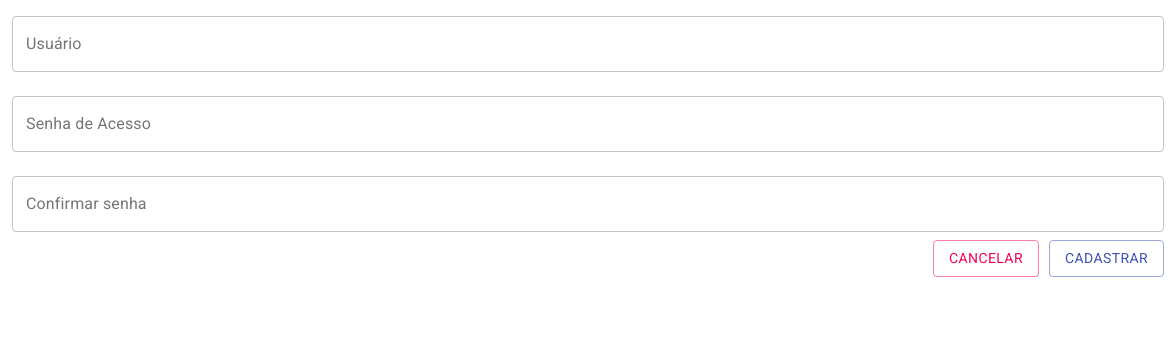
RegisterUser page › should render User input
Type "ch" into the field labelled "Usuário" at (588, 44), box [12,16,1164,72]
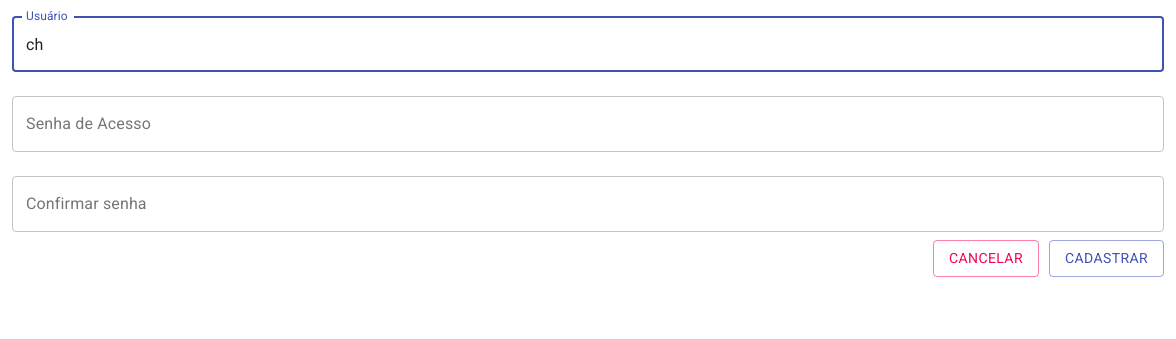
Click the button "Cadastrar" at (1106, 258), box [1049,240,1164,276]
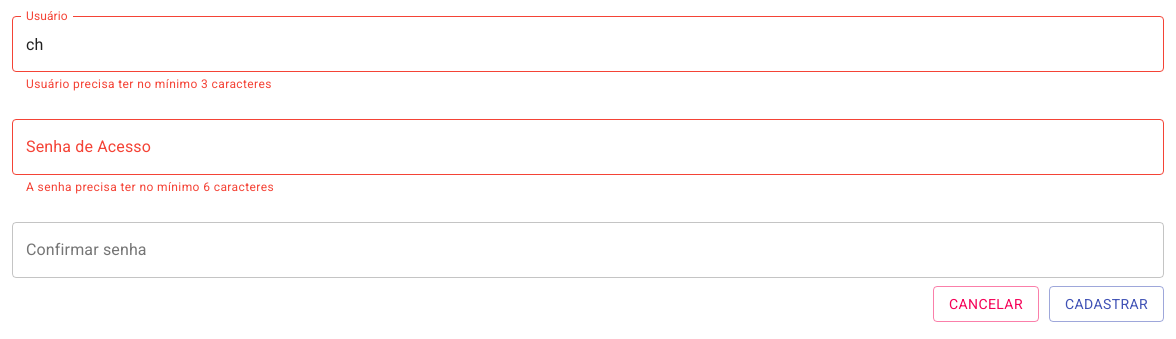
Expected: the text "Usuário precisa ter no mínimo 3 caracteres" is shown, [26,77,272,91]
